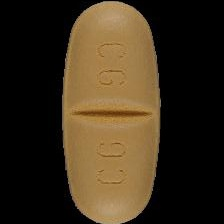0078-0337: (0, 0, 224, 224)
